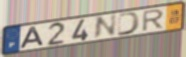2: (47, 21, 67, 47)
4: (71, 18, 91, 43)
A: (19, 26, 45, 50)
D: (116, 11, 142, 37)
N: (92, 13, 118, 41)
R: (140, 8, 166, 33)
